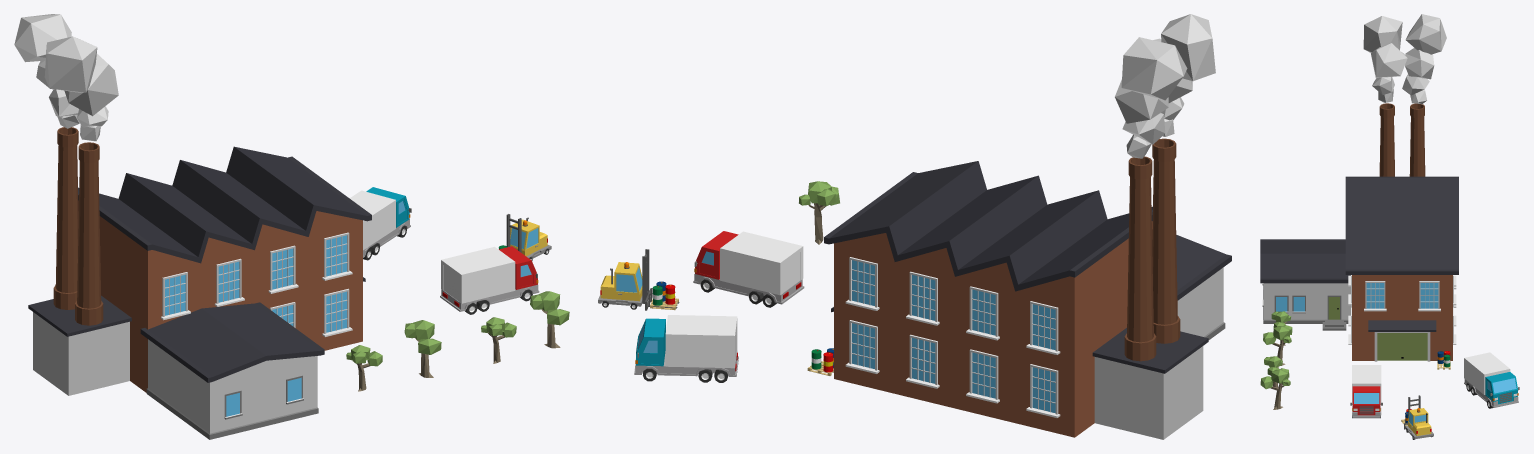
The model's file is private_factory.glb.
The picture shows the model from 3 angles, left to right: view 1: azimuth 30°, elevation 25°; view 2: azimuth 150°, elevation 25°; view 3: azimuth 270°, elevation 25°; orthographic projection. The views are drawn at different scales.
Visible parts, largest first — view 1: _2_floor_factory_ID67, _2_floor_factory_ID83, Office_ID163, Office_ID175, group_0_ID13, SketchUp_3, Truck_Box_ID414, Chimney_ID53, Chimney_ID53_1, group_53_ID1399, SketchUp, SketchUp_2 (+9 smaller); view 2: _2_floor_factory_ID67, _2_floor_factory_ID83, group_0_ID13, SketchUp_3, Truck_Box_ID414, SketchUp_2, SketchUp, Chimney_ID53_1, Chimney_ID53, Truck_Box_ID414_2, group_54_ID1406, group_53_ID1399 (+11 smaller); view 3: _2_floor_factory_ID83, _2_floor_factory_ID67, Office_ID163, Office_ID175, Garage_ID1462, group_54_ID1406, group_53_ID1399, Truck_Box_ID414_2, group_49_ID1413, Chimney_ID53_1, Chimney_ID53, SketchUp_ID1623 (+14 smaller).
Boxes of the visible parts, x1,y1,x2,y2 form: _2_floor_factory_ID67: (78, 200, 362, 392); _2_floor_factory_ID83: (78, 146, 371, 263); Office_ID163: (140, 302, 324, 382); Office_ID175: (148, 339, 317, 433); group_0_ID13: (33, 312, 129, 395); SketchUp_3: (165, 235, 346, 332); Truck_Box_ID414: (441, 246, 515, 303); Chimney_ID53: (77, 161, 101, 308); Chimney_ID53_1: (55, 145, 78, 292); group_53_ID1399: (44, 36, 97, 92); SketchUp: (163, 233, 349, 333); SketchUp_2: (161, 232, 352, 336); _2_floor_factory_ID67: (834, 221, 1152, 437); _2_floor_factory_ID83: (824, 161, 1152, 291); group_0_ID13: (1094, 346, 1203, 439); SketchUp_3: (852, 260, 1055, 413); Truck_Box_ID414: (720, 231, 803, 295); SketchUp_2: (845, 257, 1060, 417); SketchUp: (849, 257, 1057, 414); Chimney_ID53_1: (1127, 177, 1153, 342); Chimney_ID53: (1152, 159, 1177, 324); Truck_Box_ID414_2: (665, 315, 737, 368); group_54_ID1406: (1121, 37, 1187, 100); group_53_ID1399: (1161, 14, 1215, 81); _2_floor_factory_ID83: (1345, 176, 1458, 274); _2_floor_factory_ID67: (1352, 275, 1452, 360); Office_ID163: (1260, 239, 1350, 283); Office_ID175: (1264, 283, 1350, 319); Garage_ID1462: (1377, 333, 1427, 360); group_54_ID1406: (1405, 14, 1446, 54); group_53_ID1399: (1363, 16, 1402, 52); Truck_Box_ID414_2: (1464, 352, 1510, 394); group_49_ID1413: (1371, 42, 1407, 77); Chimney_ID53_1: (1409, 116, 1425, 176); Chimney_ID53: (1379, 116, 1394, 176); SketchUp_ID1623: (1368, 320, 1436, 331).
Bounding box in the file's own units: 3.43 × 2.21 × 2.06.
